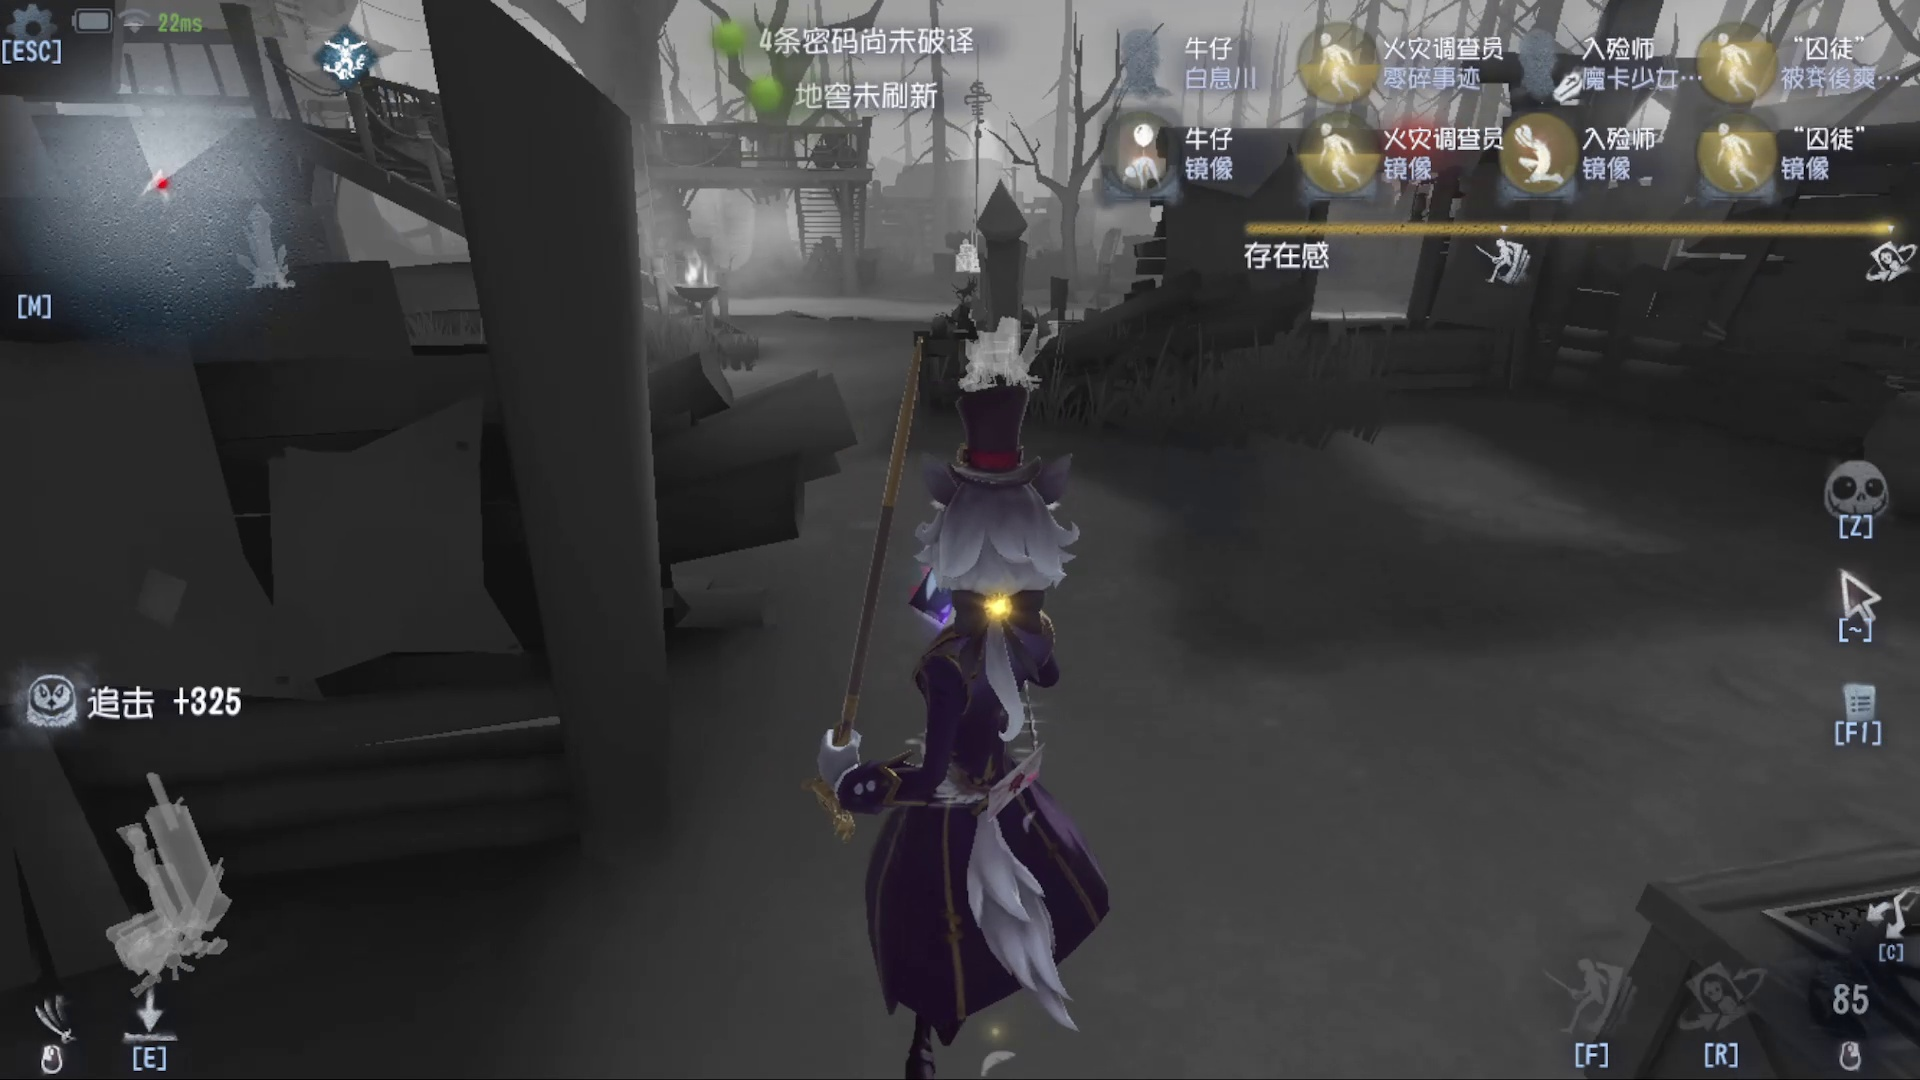狂欢之椅: (940, 171, 1069, 380)
